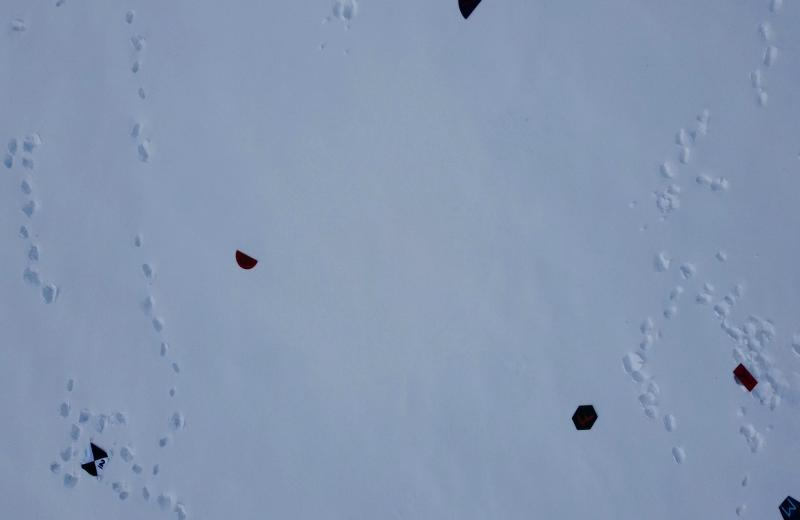Hexagon: (570, 400, 601, 434)
Pentagon: (777, 490, 800, 520)
Rectangle: (728, 356, 758, 394)
Semi Circle: (230, 248, 258, 272)
